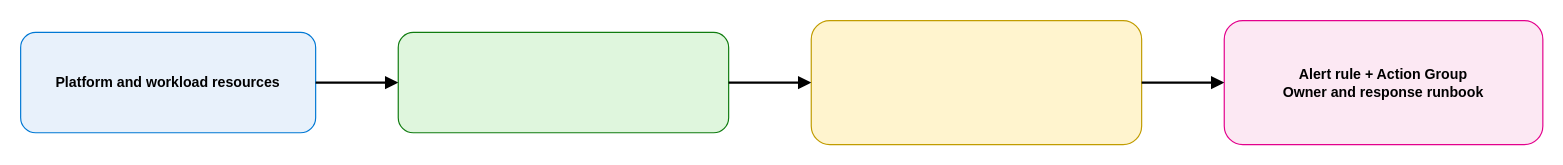
Image size: 1563x165. Some labels were removed from this diagram. The centre of each missing label's shape, as x and y in pixels:
Diagnostic settings and platform telemetry: [563,82]
Log Analytics / SIEM destination Retention and access: [976,82]
